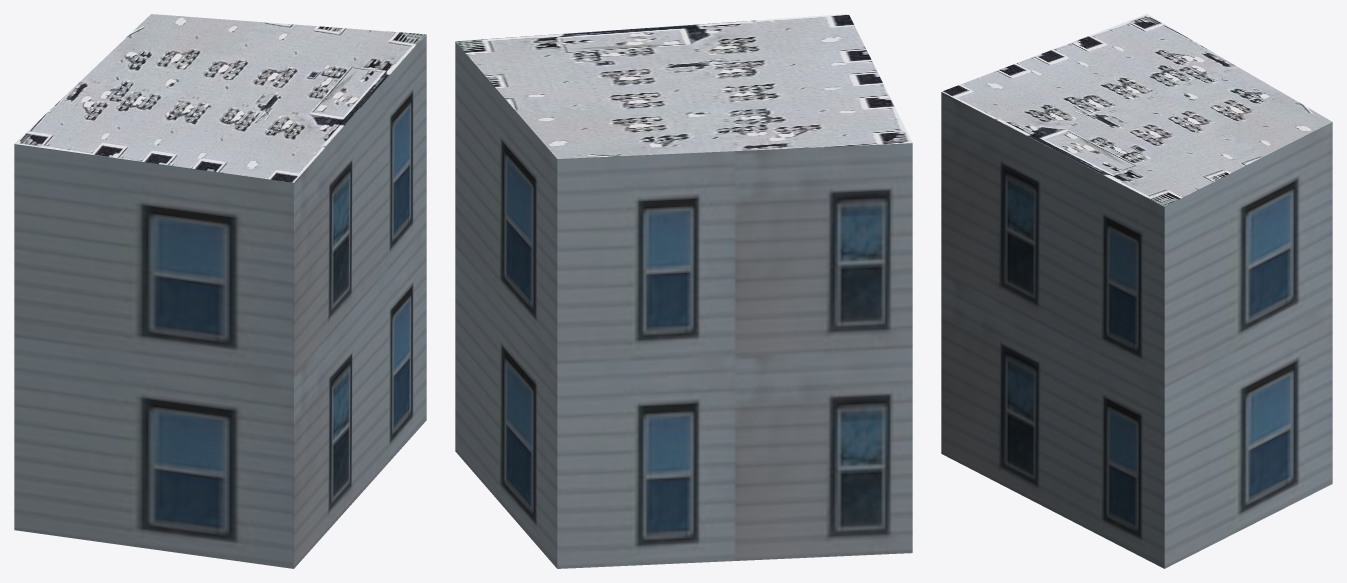
The model's file is ResTex__2938.fbx.
The picture shows the model from 3 angles, left to right: view 1: azimuth 30°, elevation 25°; view 2: azimuth 150°, elevation 25°; view 3: azimuth 270°, elevation 25°; orthographic projection. The views are drawn at different scales.
Parts seen in each view (by area): view 1: CityEngineMaterial_18_m, CityEngineMaterial_m; view 2: CityEngineMaterial_18_m, CityEngineMaterial_m; view 3: CityEngineMaterial_18_m, CityEngineMaterial_m.
Boxes of the visible parts, bbox=[...] form: CityEngineMaterial_18_m: bbox=[14, 34, 426, 568]; CityEngineMaterial_m: bbox=[15, 14, 425, 182]; CityEngineMaterial_18_m: bbox=[455, 42, 912, 568]; CityEngineMaterial_m: bbox=[455, 14, 912, 158]; CityEngineMaterial_18_m: bbox=[941, 92, 1332, 568]; CityEngineMaterial_m: bbox=[941, 14, 1332, 206].
Size of the model in its own units: 6.86 by 6 by 5.88.
2 materials, 2 textured.
